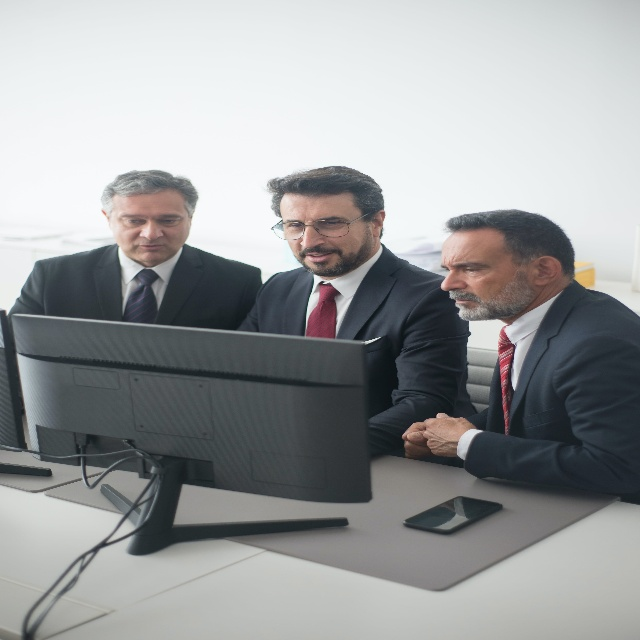Gafas: (271, 210, 375, 241)
Sin_guantes: (423, 415, 477, 457), (401, 418, 433, 460)
